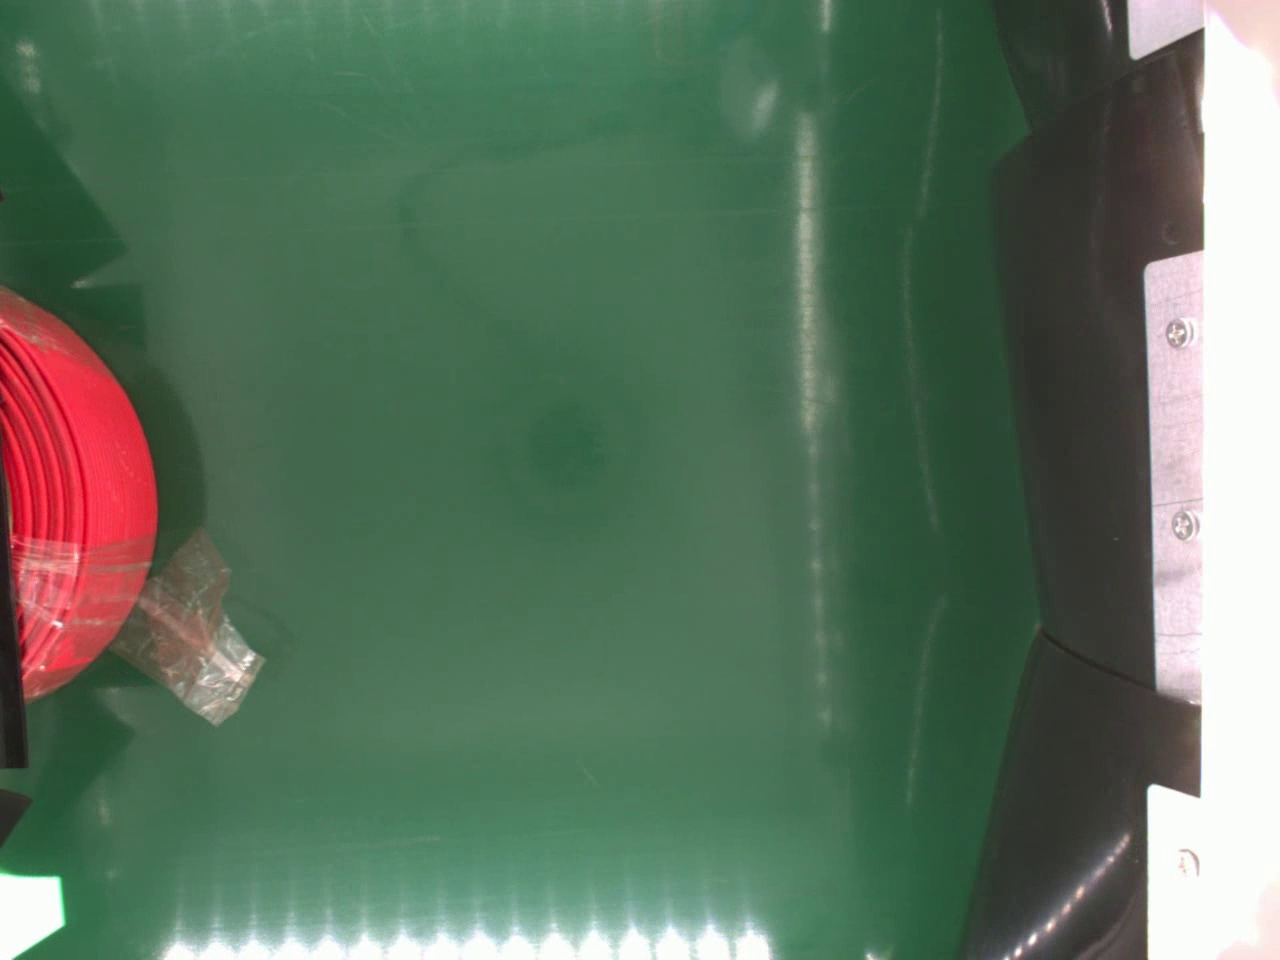red: (0, 288, 163, 695)
